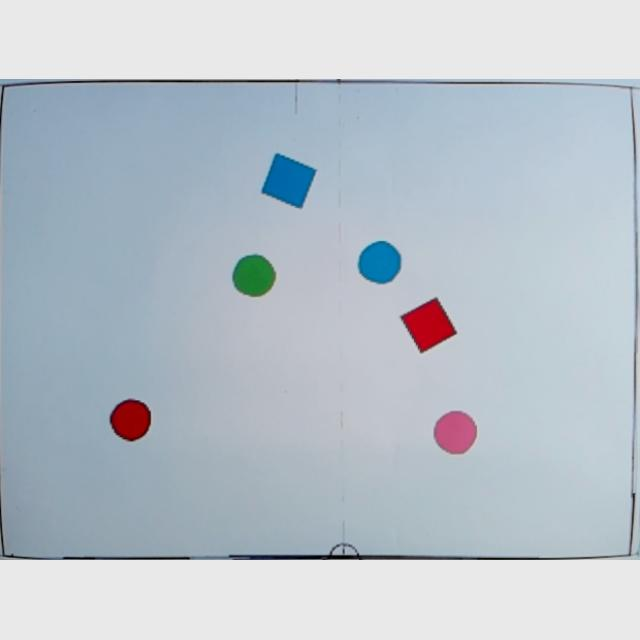blueCircle: (358, 240, 402, 286)
blueSquare: (260, 154, 316, 212)
greenCircle: (230, 255, 276, 299)
pinkCircle: (432, 410, 478, 458)
redCircle: (108, 398, 152, 444)
redSquare: (398, 296, 458, 356)
